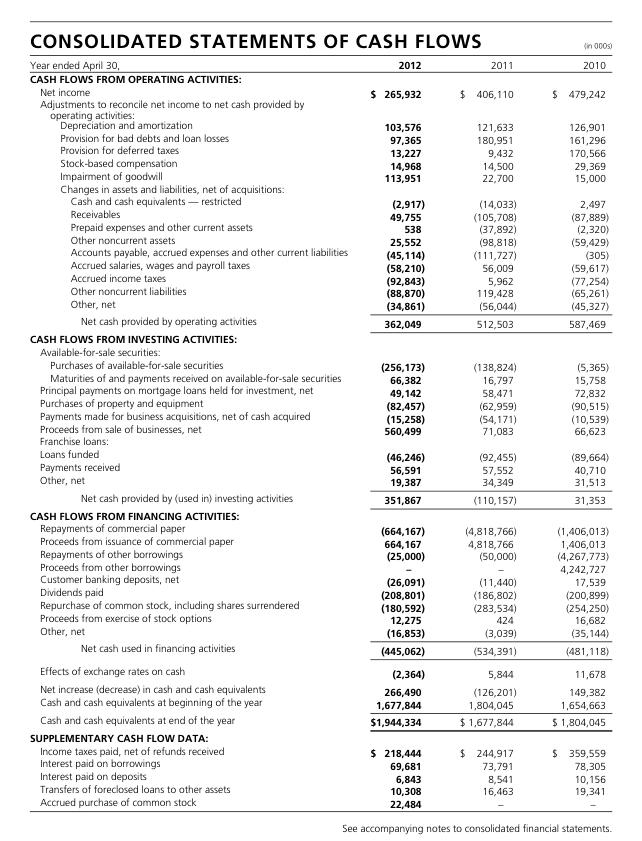table: (28, 29, 611, 809)
table column: (28, 29, 358, 809), (441, 29, 533, 809), (358, 29, 441, 809), (533, 29, 611, 809)
table column header: (28, 29, 611, 71)
table projected row header: (28, 98, 611, 119), (28, 331, 611, 345), (28, 507, 611, 521), (28, 729, 611, 743), (28, 71, 611, 84), (28, 345, 611, 358), (28, 183, 611, 194), (28, 436, 611, 447)
table row: (28, 29, 611, 55), (28, 98, 611, 119), (28, 660, 611, 681), (28, 640, 611, 660), (28, 313, 611, 331), (28, 489, 611, 507), (28, 711, 611, 729), (28, 55, 611, 71), (28, 298, 611, 313), (28, 474, 611, 489), (28, 625, 611, 640), (28, 681, 611, 696), (28, 696, 611, 711), (28, 84, 611, 98), (28, 194, 611, 208), (28, 331, 611, 345), (28, 358, 611, 372), (28, 447, 611, 461), (28, 507, 611, 521), (28, 521, 611, 535), (28, 729, 611, 743), (28, 743, 611, 757), (28, 71, 611, 84), (28, 119, 611, 132), (28, 144, 611, 157), (28, 157, 611, 170), (28, 170, 611, 183), (28, 208, 611, 221), (28, 221, 611, 234), (28, 246, 611, 259), (28, 259, 611, 272), (28, 272, 611, 285), (28, 285, 611, 298), (28, 345, 611, 358), (28, 384, 611, 397), (28, 397, 611, 410), (28, 410, 611, 423), (28, 423, 611, 436), (28, 461, 611, 474), (28, 535, 611, 548), (28, 548, 611, 561), (28, 573, 611, 586), (28, 586, 611, 599), (28, 599, 611, 612), (28, 612, 611, 625), (28, 757, 611, 770), (28, 770, 611, 783), (28, 783, 611, 796), (28, 796, 611, 809), (28, 132, 611, 144), (28, 234, 611, 246), (28, 372, 611, 384), (28, 561, 611, 573), (28, 183, 611, 194), (28, 436, 611, 447)
table spanning cell: (28, 29, 533, 55), (533, 29, 611, 71)
